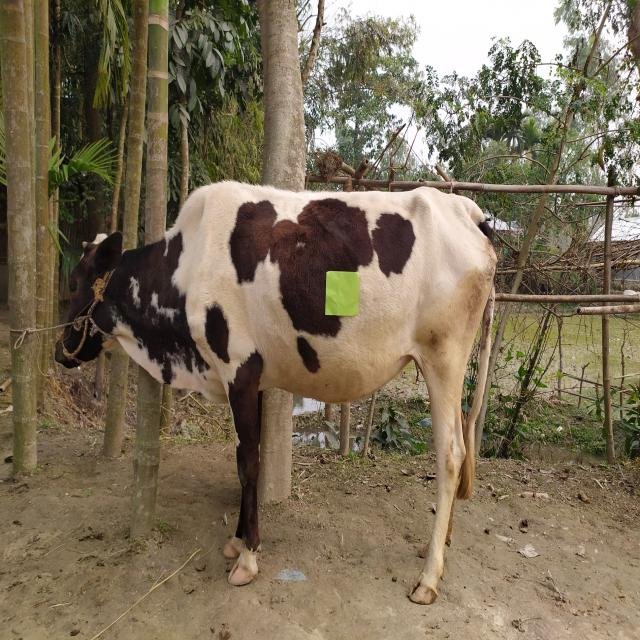badan_sapi: (213, 188, 468, 397)
sapi: (46, 176, 508, 608)
